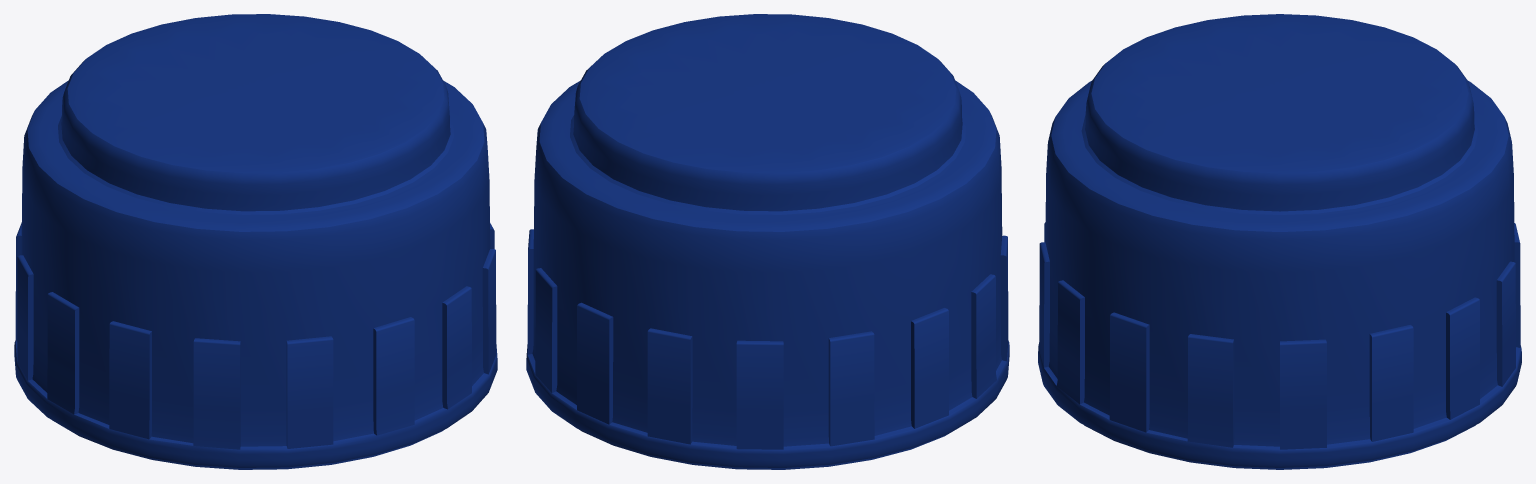
Rendered from sample bottle cap.gltf.
3 renders of one model, left to right at view 1: azimuth 30°, elevation 25°; view 2: azimuth 150°, elevation 25°; view 3: azimuth 270°, elevation 25°, orthographic.
Parts seen in each view (by area): view 1: Cylinder.002; view 2: Cylinder.002; view 3: Cylinder.002.
Part boxes in pixels (box(x1,y1,x2,y2)): Cylinder.002: box(14, 14, 497, 469); Cylinder.002: box(526, 14, 1009, 469); Cylinder.002: box(1038, 14, 1521, 469).
Bounding box in the file's own units: 0.4155 × 0.2658 × 0.4155.
